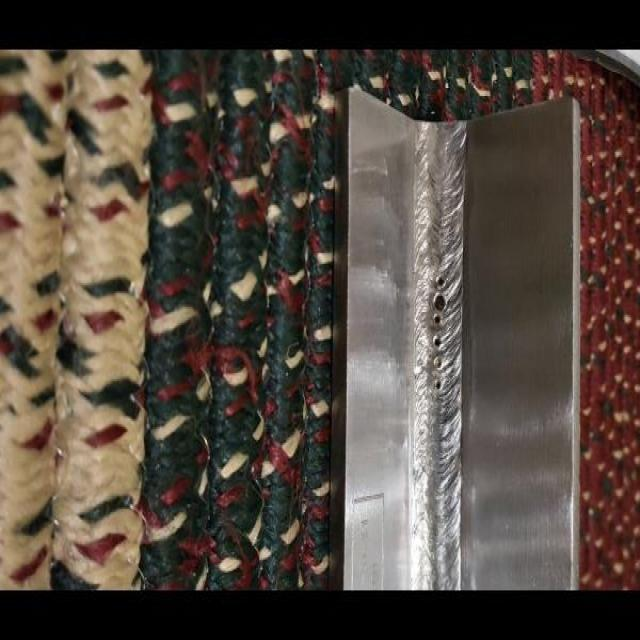Welding Line: (416, 123, 461, 587)
Workpiece: (338, 100, 575, 591)
porosity: (432, 276, 448, 388)
